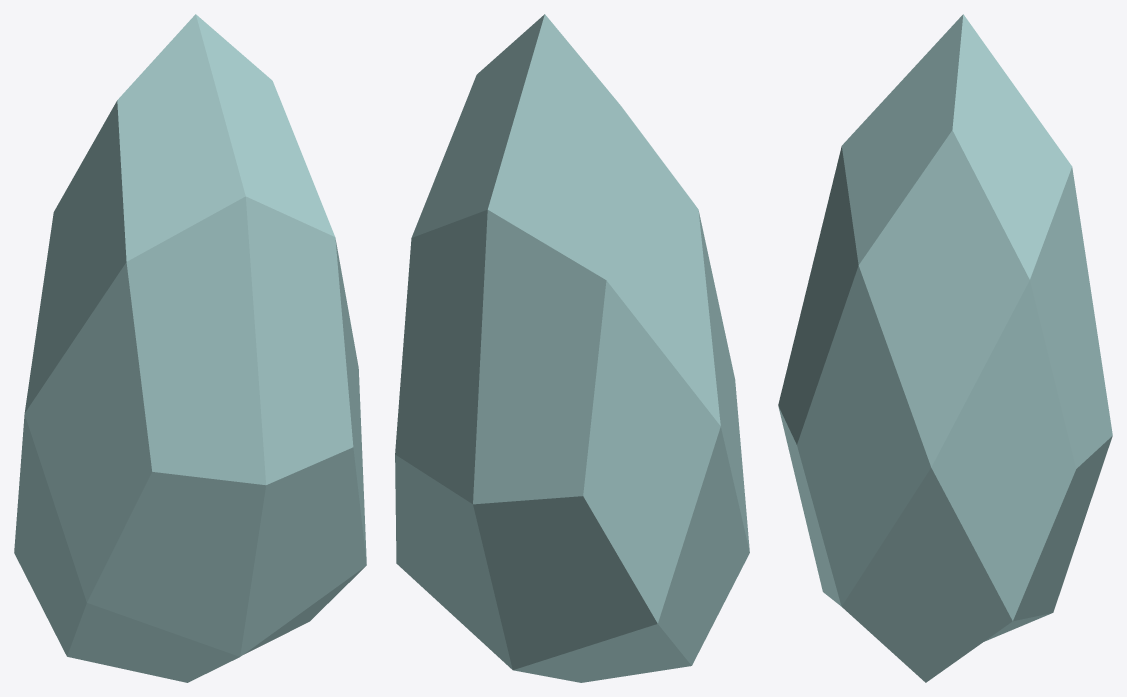
File: newCocoon.fbx
The picture shows the model from 3 angles, left to right: view 1: azimuth 30°, elevation 25°; view 2: azimuth 150°, elevation 25°; view 3: azimuth 270°, elevation 25°; orthographic projection. The views are drawn at different scales.
Visible parts, largest first — view 1: Cube.001; view 2: Cube.001; view 3: Cube.001.
Boxes of the visible parts, x1,y1,x2,y2 form: Cube.001: [14, 14, 366, 682]; Cube.001: [395, 14, 749, 682]; Cube.001: [778, 14, 1112, 682].
Size of the model in its own units: 183 by 358 by 165.
